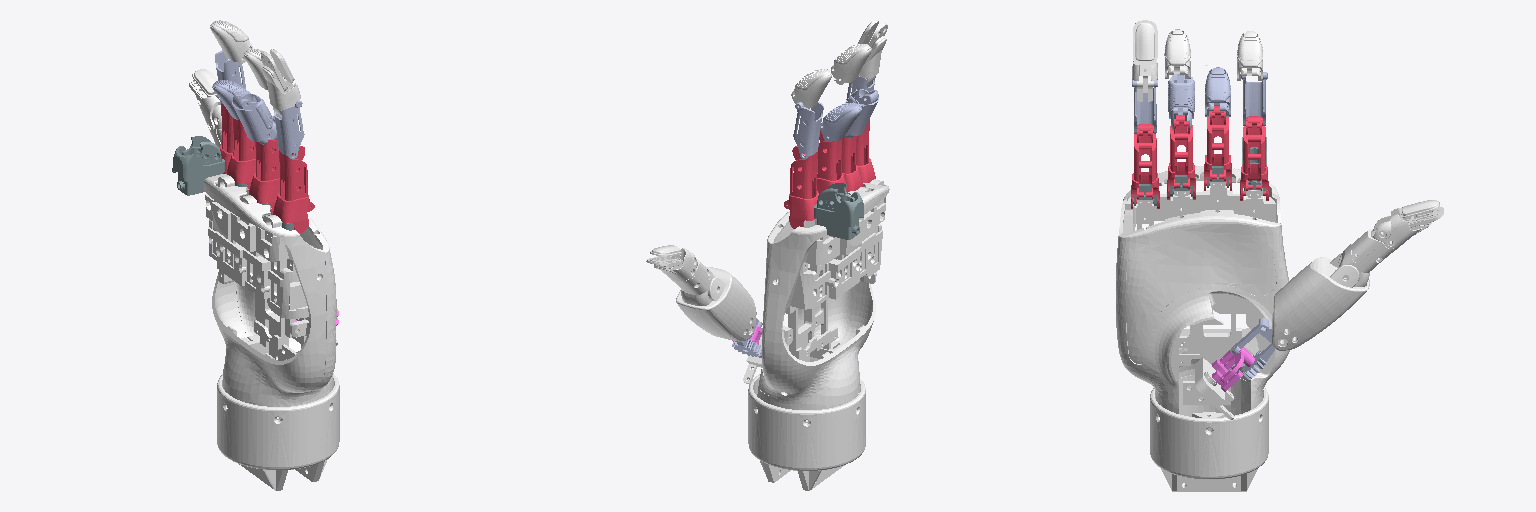
--- Facts derived from the render (not from the file) ---
3 views of the same robot in one strip: view 1: azimuth 30°, elevation 25°; view 2: azimuth 150°, elevation 25°; view 3: azimuth 270°, elevation 25° (orthographic).
Robot: linker_hand_l20_6_right — 27 links, 26 joints (21 revolute, 5 fixed); root link base_link; default pose: all joints at 0.
Visible links, largest first — view 1: base_link, little_link1, index_link0, ring_link1, little_link3, ring_link2, middle_link1, thumb_link4, little_link2, index_link3, index_link2, middle_link2 (+1 smaller); view 2: base_link, thumb_link2, index_link0, index_link1, thumb_link4, index_link2, middle_link1, ring_link3, middle_link2, little_link3, index_link3, thumb_link3 (+3 smaller); view 3: base_link, thumb_link2, thumb_link4, little_link3, index_link1, little_link1, ring_link1, middle_link1, thumb_link3, ring_link2, ring_link3, index_link3 (+5 smaller).
Boxes of the visible links, left/top/right/bottom form: base_link: left=204, top=174, right=339, bottom=490; little_link1: left=273, top=146, right=314, bottom=232; index_link0: left=172, top=136, right=224, bottom=195; ring_link1: left=249, top=135, right=279, bottom=212; little_link3: left=261, top=49, right=300, bottom=118; ring_link2: left=232, top=94, right=276, bottom=144; middle_link1: left=227, top=118, right=255, bottom=190; thumb_link4: left=189, top=69, right=221, bottom=132; little_link2: left=273, top=100, right=304, bottom=158; index_link3: left=210, top=20, right=252, bottom=63; index_link2: left=215, top=50, right=245, bottom=104; middle_link2: left=212, top=80, right=250, bottom=119; base_link: left=743, top=179, right=889, bottom=490; thumb_link2: left=676, top=267, right=755, bottom=341; index_link0: left=814, top=183, right=863, bottom=239; index_link1: left=784, top=146, right=818, bottom=228; thumb_link4: left=646, top=245, right=697, bottom=280; index_link2: left=793, top=102, right=823, bottom=158; middle_link1: left=817, top=131, right=847, bottom=193; ring_link3: left=831, top=44, right=871, bottom=84; middle_link2: left=820, top=103, right=861, bottom=141; little_link3: left=852, top=20, right=887, bottom=86; index_link3: left=791, top=69, right=831, bottom=108; thumb_link3: left=670, top=259, right=714, bottom=305; base_link: left=1116, top=166, right=1289, bottom=491; thumb_link2: left=1272, top=253, right=1369, bottom=350; thumb_link4: left=1373, top=200, right=1443, bottom=248; little_link3: left=1132, top=20, right=1157, bottom=101; index_link1: left=1240, top=116, right=1268, bottom=200; little_link1: left=1131, top=124, right=1159, bottom=208; ring_link1: left=1167, top=115, right=1195, bottom=199; middle_link1: left=1204, top=106, right=1231, bottom=190; thumb_link3: left=1338, top=229, right=1397, bottom=286; ring_link2: left=1168, top=74, right=1194, bottom=131; ring_link3: left=1164, top=29, right=1190, bottom=78; index_link3: left=1237, top=31, right=1262, bottom=80.
Bounding box of the posed robot: 0.0961 × 0.195 × 0.2887 m (x, y, z).
22 mesh visuals loaded from 22 distinct referenced files (22 binary STL).

robot.urdf — linker_hand_l20_6_right:
<?xml version="1.0" encoding="utf-8"?>
<robot
  name="linker_hand_l20_6_right">
  <link name="base_link">
    <inertial>
      <origin
        xyz="-0.00497665848015421 -0.00239359858758318 0.083846552988329"
        rpy="0 0 0" />
      <mass
        value="0.152938259096654" />
      <inertia
        ixx="0.00028478343778912"
        ixy="6.06872955357818E-07"
        ixz="2.48655772230021E-05"
        iyy="0.000221451699440379"
        iyz="3.44778042860607E-07"
        izz="0.000136444210200083" />
    </inertial>
    <visual>
      <origin
        xyz="0 0 0"
        rpy="0 0 0" />
      <geometry>
        <mesh
          filename="meshes/linker_hand_l20_6_right/base_link.STL" />
      </geometry>
      <material
        name="">
        <color
          rgba="1 1 1 1" />
      </material>
    </visual>
    <collision>
      <origin
        xyz="0 0 0"
        rpy="0 0 0" />
      <geometry>
        <mesh
          filename="meshes/linker_hand_l20_6_right/base_link.STL" />
      </geometry>
    </collision>
  </link>
  <link name="thumb_link0">
    <inertial>
      <origin
        xyz="0.00171130517852104 0.00308064154313176 0.00586120979241961"
        rpy="0 0 0" />
      <mass
        value="0.00189122305087942" />
      <inertia
        ixx="5.07422291451096E-08"
        ixy="1.48672786797004E-09"
        ixz="-1.19109960812994E-09"
        iyy="2.03941511025912E-07"
        iyz="-4.14644150186611E-09"
        izz="1.83339702481041E-07" />
    </inertial>
    <visual>
      <origin
        xyz="0 0 0"
        rpy="0 0 0" />
      <geometry>
        <mesh
          filename="meshes/linker_hand_l20_6_right/thumb_link0.STL" />
      </geometry>
      <material
        name="">
        <color
          rgba="1 0.529411764705882 0.945098039215686 1" />
      </material>
    </visual>
    <collision>
      <origin
        xyz="0 0 0"
        rpy="0 0 0" />
      <geometry>
        <mesh
          filename="meshes/linker_hand_l20_6_right/thumb_link0.STL" />
      </geometry>
    </collision>
  </link>
  <joint
    name="thumb_joint0"
    type="revolute">
    <origin
      xyz="0.02587 0.0067333 0.085186"
      rpy="-0.7854 0 0" />
    <parent
      link="base_link" />
    <child
      link="thumb_link0" />
    <axis
      xyz="0 0 1" />
    <limit
      lower="-1.57"
      upper="0"
      effort="1"
      velocity="1" />
  </joint>
  <link
    name="thumb_link1">
    <inertial>
      <origin
        xyz="-0.000277478869029235 -0.00750942833858575 0.0089304983825501"
        rpy="0 0 0" />
      <mass
        value="0.00206305891915154" />
      <inertia
        ixx="3.05385146228895E-07"
        ixy="-5.00563486191384E-09"
        ixz="7.19583052938621E-09"
        iyy="2.40742124143551E-07"
        iyz="5.95561056697094E-08"
        izz="1.06741398376265E-07" />
    </inertial>
    <visual>
      <origin
        xyz="0 0 0"
        rpy="0 0 0" />
      <geometry>
        <mesh
          filename="meshes/linker_hand_l20_6_right/thumb_link1.STL" />
      </geometry>
      <material
        name="">
        <color
          rgba="0.792156862745098 0.819607843137255 0.933333333333333 1" />
      </material>
    </visual>
    <collision>
      <origin
        xyz="0 0 0"
        rpy="0 0 0" />
      <geometry>
        <mesh
          filename="meshes/linker_hand_l20_6_right/thumb_link1.STL" />
      </geometry>
    </collision>
  </link>
  <joint
    name="thumb_joint1"
    type="revolute">
    <origin
      xyz="6.5908E-05 0.0147 0.016142"
      rpy="0 0 0" />
    <parent
      link="thumb_link0" />
    <child
      link="thumb_link1" />
    <axis
      xyz="0 -1 0" />
    <limit
      lower="-1.57"
      upper="0"
      effort="1"
      velocity="1" />
  </joint>
  <link
    name="thumb_link2">
    <inertial>
      <origin
        xyz="-0.0108507552512352 -0.00222078379608463 0.0272584155025345"
        rpy="0 0 0" />
      <mass
        value="0.0220131209035036" />
      <inertia
        ixx="8.80027883883616E-06"
        ixy="1.26376726607478E-08"
        ixz="6.85223481730703E-09"
        iyy="7.13469620246115E-06"
        iyz="-1.16002308114769E-07"
        izz="2.37412073971261E-06" />
    </inertial>
    <visual>
      <origin
        xyz="0 0 0"
        rpy="0 0 0" />
      <geometry>
        <mesh
          filename="meshes/linker_hand_l20_6_right/thumb_link2.STL" />
      </geometry>
      <material
        name="">
        <color
          rgba="1 1 1 1" />
      </material>
    </visual>
    <collision>
      <origin
        xyz="0 0 0"
        rpy="0 0 0" />
      <geometry>
        <mesh
          filename="meshes/linker_hand_l20_6_right/thumb_link2.STL" />
      </geometry>
    </collision>
  </link>+
  <joint
    name="thumb_joint2"
    type="revolute">
    <origin
      xyz="0.011082 -0.005298 0.026398"
      rpy="-0.017453 0 0" />
    <parent
      link="thumb_link1" />
    <child
      link="thumb_link2" />
    <axis
      xyz="1 0 0" />
    <limit
      lower="0"
      upper="0.84"
      effort="1"
      velocity="1" />
  </joint>
  <link
    name="thumb_link3">
    <inertial>
      <origin
        xyz="-0.00974959688321198 0.00202228519722449 0.0122258007515927"
        rpy="0 0 0" />
      <mass
        value="0.00555228490379291" />
      <inertia
        ixx="6.61595122846642E-07"
        ixy="1.05595315534577E-09"
        ixz="-3.18287669820352E-09"
        iyy="4.69880503586704E-07"
        iyz="6.54476571195352E-08"
        izz="2.55667905062469E-07" />
    </inertial>
    <visual>
      <origin
        xyz="0 0 0"
        rpy="0 0 0" />
      <geometry>
        <mesh
          filename="meshes/linker_hand_l20_6_right/thumb_link3.STL" />
      </geometry>
      <material
        name="">
        <color
          rgba="1 1 1 1" />
      </material>
    </visual>
    <collision>
      <origin
        xyz="0 0 0"
        rpy="0 0 0" />
      <geometry>
        <mesh
          filename="meshes/linker_hand_l20_6_right/thumb_link3.STL" />
      </geometry>
    </collision>
  </link>
  <joint
    name="thumb_joint3"
    type="revolute">
    <origin
      xyz="-0.0011 -0.004056 0.056083"
      rpy="0.022086 0 0" />
    <parent
      link="thumb_link2" />
    <child
      link="thumb_link3" />
    <axis
      xyz="-1 0 0" />
    <limit
      lower="-1.3"
      upper="0"
      effort="1"
      velocity="1" />
  </joint>
  <link
    name="thumb_link4">
    <inertial>
      <origin
        xyz="-0.00797578866717898 0.00152639668005328 0.0106120855389221"
        rpy="0 0 0" />
      <mass
        value="0.0055604971359363" />
      <inertia
        ixx="3.3774130772916E-07"
        ixy="3.61066706901095E-10"
        ixz="7.97109634276947E-10"
        iyy="3.22422909267053E-07"
        iyz="-9.35015665594502E-08"
        izz="2.64467672788791E-07" />
    </inertial>
    <visual>
      <origin
        xyz="0 0 0"
        rpy="0 0 0" />
      <geometry>
        <mesh
          filename="meshes/linker_hand_l20_6_right/thumb_link4.STL" />
      </geometry>
      <material
        name="">
        <color
          rgba="1 1 1 1" />
      </material>
    </visual>
    <collision>
      <origin
        xyz="0 0 0"
        rpy="0 0 0" />
      <geometry>
        <mesh
          filename="meshes/linker_hand_l20_6_right/thumb_link4.STL" />
      </geometry>
    </collision>
  </link>21
  <joint
    name="thumb_joint4"
    type="revolute">
    <origin
      xyz="-0.0021 0.0038291 0.03435"
      rpy="0.07351 0 0" />
    <parent
      link="thumb_link3" />
    <child
      link="thumb_link4" />
    <axis
      xyz="-1 0 0" />
    <limit
      lower="-1.36"
      upper="0"
      effort="1"
      velocity="0.5" />
    <mimic joint="thumb_joint3" multiplier="1.06399" offset="-0.04545"/>
  </joint>
  <link name="thumb_tip">
    <inertial>
      <mass value="0.001"/>
      <inertia ixx="0.0" ixy="0.0" ixz="0.0" iyy="0.0" iyz="0.0" izz="0.0"/>
    </inertial>
  </link>
  <joint name="thumtip" type="fixed">
    <parent link="thumb_link4"/>
    <child link="thumb_tip"/>
    <origin rpy="0 0 0" xyz="0 0 0.026"/>
  </joint>
  <link
    name="index_link0">
    <inertial>
      <origin
        xyz="0.00499201301761733 5.8453954384155E-07 0.00222436287435923"
        rpy="0 0 0" />
      <mass
        value="0.000811726286239375" />
      <inertia
        ixx="3.31810810659534E-08"
        ixy="-4.73130497978781E-15"
        ixz="-4.26318024097879E-09"
        iyy="2.13817841267529E-08"
        iyz="8.79642448001007E-15"
        izz="3.60158935322358E-08" />
    </inertial>
    <visual>
      <origin
        xyz="0 0 0"
        rpy="0 0 0" />
      <geometry>
        <mesh
          filename="meshes/linker_hand_l20_6_right/index_link0.STL" />
      </geometry>
      <material
        name="">
        <color
          rgba="0.592156862745098 0.666666666666667 0.682352941176471 1" />
      </material>
    </visual>
    <collision>
      <origin
        xyz="0 0 0"
        rpy="0 0 0" />
      <geometry>
        <mesh
          filename="meshes/linker_hand_l20_6_right/index_link0.STL" />
      </geometry>
    </collision>
  </link>
  <joint
    name="index_joint0"
    type="revolute">
    <origin
      xyz="-0.023065 0.026697 0.18271"
      rpy="0 0 0" />
    <parent
      link="base_link" />
    <child
      link="index_link0" />
    <axis
      xyz="1 0 0" />
    <limit
      lower="-0.26"
      upper="0.26"
      effort="1"
      velocity="1" />
  </joint>
  <link
    name="index_link1">
    <inertial>
      <origin
        xyz="-0.0012662 0.0047802 0.021586"
        rpy="0 0 0" />
      <mass
        value="0.0029859" />
      <inertia
        ixx="6.1441E-07"
        ixy="-6.7208E-12"
        ixz="2.6125E-09"
        iyy="6.6451E-07"
        iyz="-1.5783E-10"
        izz="7.4794E-08" />
    </inertial>
    <visual>
      <origin
        xyz="0 0 0"
        rpy="0 0 0" />
      <geometry>
        <mesh
          filename="meshes/linker_hand_l20_6_right/index_link1.STL" />
      </geometry>
      <material
        name="">
        <color
          rgba="1 0.36471 0.47843 1" />
      </material>
    </visual>
    <collision>
      <origin
        xyz="0 0 0"
        rpy="0 0 0" />
      <geometry>
        <mesh
          filename="meshes/linker_hand_l20_6_right/index_link1.STL" />
      </geometry>
    </collision>
  </link>
  <joint
    name="index_joint1"
    type="revolute">
    <origin
      xyz="0.01037 -0.0047959 0"
      rpy="0 -0.016705 0" />
    <parent
      link="index_link0" />
    <child
      link="index_link1" />
    <axis
      xyz="0 -1 0" />
    <limit
      lower="-1.57"
      upper="0"
      effort="1"
      velocity="1" />
  </joint>
  <link
    name="index_link2">
    <inertial>
      <origin
        xyz="0.0022678782934194 0.00550938443619188 0.0157509409922609"
        rpy="0 0 0" />
      <mass
        value="0.00110397342872363" />
      <inertia
        ixx="1.25567261013688E-07"
        ixy="-5.66747555864477E-13"
        ixz="-1.74648045897156E-08"
        iyy="1.10386995872639E-07"
        iyz="-1.8998411342969E-12"
        izz="4.80247744617547E-08" />
    </inertial>
    <visual>
      <origin
        xyz="0 0 0"
        rpy="0 0 0" />
      <geometry>
        <mesh
          filename="meshes/linker_hand_l20_6_right/index_link2.STL" />
      </geometry>
      <material
        name="">
        <color
          rgba="0.792156862745098 0.819607843137255 0.933333333333333 1" />
      </material>
    </visual>
    <collision>
      <origin
        xyz="0 0 0"
        rpy="0 0 0" />
      <geometry>
        <mesh
          filename="meshes/linker_hand_l20_6_right/index_link2.STL" />
      </geometry>
    </collision>
  </link>
  <joint
    name="index_joint2"
    type="revolute">
    <origin
      xyz="-0.0034454 -0.00071234 0.044883"
      rpy="0 -0.1664 0" />
    <parent
      link="index_link1" />
    <child
      link="index_link2" />
    <axis
      xyz="0 -1 0" />
    <limit
      lower="-0.75"
      upper="0"
      effort="1"
      velocity="1" />
  </joint>
  <link
    name="index_link3">
    <inertial>
      <origin
        xyz="-0.0070199 0.0077572 0.010283"
        rpy="0 0 0" />
      <mass
        value="0.0043646" />
      <inertia
        ixx="2.9569E-07"
        ixy="1.4231E-11"
        ixz="7.1242E-08"
        iyy="2.9572E-07"
        iyz="-9.0359E-11"
        izz="1.3393E-07" />
    </inertial>
    <visual>
      <origin
        xyz="0 0 0"
        rpy="0 0 0" />
      <geometry>
        <mesh
          filename="meshes/linker_hand_l20_6_right/index_link3.STL" />
      </geometry>
      <material
        name="">
        <color
          rgba="1 1 1 1" />
      </material>
    </visual>
    <collision>
      <origin
        xyz="0 0 0"
        rpy="0 0 0" />
      <geometry>
        <mesh
          filename="meshes/linker_hand_l20_6_right/index_link3.STL" />
      </geometry>
    </collision>
  </link>
  <joint
    name="index_joint3"
    type="revolute">
    <origin
      xyz="0.0089932 -0.0022532 0.030525"
      rpy="0 0.043633 0" />
    <parent
      link="index_link2" />
    <child
      link="index_link3" />
    <axis
      xyz="0 -1 0" />
    <limit
      lower="-1.57"
      upper="0"
      effort="1"
      velocity="1" />
    <mimic joint="index_joint2" multiplier="1.06399" offset="-0.04545"/>
  </joint>
  <link name="index_tip">
    <inertial>
      <mass value="0.001"/>
      <inertia ixx="0.0" ixy="0.0" ixz="0.0" iyy="0.0" iyz="0.0" izz="0.0"/>
    </inertial>
  </link>
  <joint name="indetip" type="fixed">
    <parent link="index_link3"/>
    <child link="index_tip"/>
    <origin rpy="0 0 0" xyz="-0.016 0 0.026"/>
  </joint>
  <link
    name="middle_link0">
    <inertial>
      <origin
        xyz="0.00499201301761733 5.84539543848489E-07 0.0022243628743592"
        rpy="0 0 0" />
      <mass
        value="0.000811726286239377" />
      <inertia
        ixx="3.31810810659534E-08"
        ixy="-4.73130499613394E-15"
        ixz="-4.26318024097879E-09"
        iyy="2.1381784126753E-08"
        iyz="8.79642447366863E-15"
        izz="3.60158935322358E-08" />
    </inertial>
    <visual>
      <origin
        xyz="0 0 0"
        rpy="0 0 0" />
      <geometry>
        <mesh
          filename="meshes/linker_hand_l20_6_right/middle_link0.STL" />
      </geometry>
      <material
        name="">
        <color
          rgba="0.592156862745098 0.666666666666667 0.682352941176471 1" />
      </material>
    </visual>
    <collision>
      <origin
        xyz="0 0 0"
        rpy="0 0 0" />
      <geometry>
        <mesh
          filename="meshes/linker_hand_l20_6_right/middle_link0.STL" />
      </geometry>
    </collision>
  </link>
  <joint
    name="middle_joint0"
    type="revolute">
    <origin
      xyz="-0.027799 0.0050972 0.1872"
      rpy="0 0 0" />
    <parent
      link="base_link" />
    <child
      link="middle_link0" />
    <axis
      xyz="1 0 0" />
    <limit
      lower="-0.26"
      upper="0.26"
      effort="1"
      velocity="1" />
  </joint>
  <link
    name="middle_link1">
    <inertial>
      <origin
        xyz="-0.00126616757442883 0.00478020260131797 0.0215857761806502"
        rpy="0 0 0" />
      <mass
        value="0.00298593553533332" />
      <inertia
        ixx="6.14413061991008E-07"
        ixy="-6.72078487993598E-12"
        ixz="2.61250859819972E-09"
        iyy="6.64506610035218E-07"
        iyz="-1.5782653947063E-10"
        izz="7.47935343487365E-08" />
    </inertial>
    <visual>
      <origin
        xyz="0 0 0"
        rpy="0 0 0" />
      <geometry>
        <mesh
          filename="meshes/linker_hand_l20_6_right/middle_link1.STL" />
      </geometry>
      <material
        name="">
        <color
          rgba="1 0.364705882352941 0.47843137254902 1" />
      </material>
    </visual>
    <collision>
      <origin
        xyz="0 0 0"
        rpy="0 0 0" />
      <geometry>
        <mesh
          filename="meshes/linker_hand_l20_6_right/middle_link1.STL" />
      </geometry>
    </collision>
  </link>
  <joint
    name="middle_joint1"
    type="revolute">
    <origin
      xyz="0.01037 -0.0047959 0"
      rpy="0 -0.016705 0" />
    <parent
      link="middle_link0" />
    <child
      link="middle_link1" />
    <axis
      xyz="0 -1 0" />
    <limit
      lower="-1.57"
      upper="0"
      effort="1"
      velocity="1" />
  </joint>
  <link
    name="middle_link2">
    <inertial>
      <origin
        xyz="0.00206147810486489 0.0055093844355147 0.0157792814180968"
        rpy="0 0 0" />
      <mass
        value="0.00110397342856969" />
      <inertia
        ixx="1.26011217966818E-07"
        ixy="-5.41827944403056E-13"
        ixz="-1.64437457339027E-08"
        iyy="1.10386995852566E-07"
        iyz="-1.90708945160502E-12"
        izz="4.75808174813495E-08" />
    </inertial>
    <visual>
      <origin
        xyz="0 0 0"
        rpy="0 0 0" />
      <geometry>
        <mesh
          filename="meshes/linker_hand_l20_6_right/middle_link2.STL" />
      </geometry>
      <material
        name="">
        <color
          rgba="0.792156862745098 0.819607843137255 0.933333333333333 1" />
      </material>
    </visual>
    <collision>
      <origin
        xyz="0 0 0"
        rpy="0 0 0" />
      <geometry>
        <mesh
          filename="meshes/linker_hand_l20_6_right/middle_link2.STL" />
      </geometry>
    </collision>
  </link>
  <joint
    name="middle_joint2"
    type="revolute">
    <origin
      xyz="-0.0034454 -0.00071234 0.044883"
      rpy="0 -0.15331 0" />
    <parent
      link="middle_link1" />
    <child
      link="middle_link2" />
    <axis
      xyz="0 -1 0" />
    <limit
      lower="-0.75"
      upper="0"
      effort="1"
      velocity="1" />
  </joint>
  <link
    name="middle_link3">
    <inertial>
      <origin
        xyz="-0.00701990846170339 0.00775722692543853 0.0102834906292369"
        rpy="0 0 0" />
      <mass
        value="0.00436464025798777" />
      <inertia
        ixx="2.95690415926815E-07"
        ixy="1.42314403707937E-11"
        ixz="7.12424042898867E-08"
        iyy="2.95717870924723E-07"
        iyz="-9.03585662309647E-11"
        izz="1.33934082734713E-07" />
    </inertial>
    <visual>
      <origin
        xyz="0 0 0"
        rpy="0 0 0" />
      <geometry>
        <mesh
          filename="meshes/linker_hand_l20_6_right/middle_link3.STL" />
      </geometry>
      <material
        name="">
        <color
          rgba="1 1 1 1" />
      </material>
    </visual>
    <collision>
      <origin
        xyz="0 0 0"
        rpy="0 0 0" />
      <geometry>
        <mesh
          filename="meshes/linker_hand_l20_6_right/middle_link3.STL" />
      </geometry>
    </collision>
  </link>
  <joint
    name="middle_joint3"
    type="revolute">
    <origin
      xyz="0.0085928 -0.0022532 0.03064"
      rpy="0 0.030541 0" />
    <parent
      link="middle_link2" />
    <child
      link="middle_link3" />
    <axis
      xyz="0 -1 0" />
    <limit
      lower="-1.57"
      upper="0"
      effort="1"
      velocity="1" />
    <mimic joint="middle_joint2" multiplier="1.06399" offset="-0.04545"/>
  </joint>
  <link name="middle_tip">
    <inertial>
      <mass value="0.001"/>
      <inertia ixx="0.0" ixy="0.0" ixz="0.0" iyy="0.0" iyz="0.0" izz="0.0"/>
    </inertial>
  </link>
  <joint name="middtip" type="fixed">
    <parent link="middle_link3"/>
    <child link="middle_tip"/>
    <origin rpy="0 0 0" xyz="-0.016 0 0.026"/>
  </joint>
  <link
    name="ring_link0">
    <inertial>
      <origin
        xyz="0.00499201301761733 5.8453954384155E-07 0.00222436287435923"
        rpy="0 0 0" />
      <mass
        value="0.000811726286239376" />
      <inertia
        ixx="3.31810810659534E-08"
        ixy="-4.73130496290983E-15"
        ixz="-4.26318024097879E-09"
        iyy="2.13817841267529E-08"
        iyz="8.7964244475489E-15"
        izz="3.60158935322358E-08" />
    </inertial>
    <visual>
      <origin
        xyz="0 0 0"
        rpy="0 0 0" />
      <geometry>
        <mesh
          filename="meshes/linker_hand_l20_6_right/ring_link0.STL" />
      </geometry>
      <material
        name="">
        <color
          rgba="0.592156862745098 0.666666666666667 0.682352941176471 1" />
      </material>
    </visual>
    <collision>
      <origin
        xyz="0 0 0"
        rpy="0 0 0" />
      <geometry>
        <mesh
          filename="meshes/linker_hand_l20_6_right/ring_link0.STL" />
      </geometry>
    </collision>
  </link>
  <joint
    name="ring_joint0"
    type="revolute">
    <origin
      xyz="-0.025494 -0.016503 0.18271"
      rpy="0 0 0" />
    <parent
      link="base_link" />
    <child
      link="ring_link0" />
    <axis
      xyz="1 0 0" />
    <limit
      lower="-0.26"
      upper="0.26"
      effort="1"
      velocity="1" />
  </joint>
  <link
    name="ring_link1">
    <inertial>
      <origin
        xyz="-0.00162655515218408 0.00478020259309836 0.0215616147832942"
        rpy="0 0 0" />
      <mass
        value="0.00298593553533345" />
      <inertia
        ixx="6.14175233798026E-07"
        ixy="-4.08355103251197E-12"
        ixz="1.16234835717447E-08"
        iyy="6.64506610583797E-07"
        iyz="-1.57916557955352E-10"
        izz="7.50313630900641E-08" />
    </inertial>
    <visual>
      <origin
        xyz="0 0 0"
        rpy="0 0 0" />
      <geometry>
        <mesh
          filename="meshes/linker_hand_l20_6_right/ring_link1.STL" />
      </geometry>
      <material
        name="">
        <color
          rgba="1 0.364705882352941 0.47843137254902 1" />
      </material>
    </visual>
    <collision>
      <origin
        xyz="0 0 0"
        rpy="0 0 0" />
      <geometry>
        <mesh
          filename="meshes/linker_hand_l20_6_right/ring_link1.STL" />
      </geometry>
    </collision>
  </link>
  <joint
    name="ring_joint1"
    type="revolute">
    <origin
      xyz="0.01037 -0.0047959 0"
      rpy="0 0 0" />
    <parent
      link="ring_link0" />
    <child
      link="ring_link1" />
    <axis
      xyz="0 -1 0" />
    <limit
      lower="-1.57"
      upper="0"
      effort="1"
      velocity="1" />
  </joint>
  <link
    name="ring_link2">
    <inertial>
      <origin
        xyz="0.00206147810411875 0.00550938443821904 0.0157792814243852"
        rpy="0 0 0" />
      <mass
        value="0.00110397342920435" />
      <inertia
        ixx="1.26011218063283E-07"
        ixy="-5.4182363605894E-13"
        ixz="-1.64437457238363E-08"
        iyy="1.10386995935321E-07"
        iyz="-1.90712438627863E-12"
        izz="4.75808174975987E-08" />
    </inertial>
    <visual>
      <origin
        xyz="0 0 0"
        rpy="0 0 0" />
      <geometry>
        <mesh
          filename="meshes/linker_hand_l20_6_right/ring_link2.STL" />
      </geometry>
      <material
        name="">
        <color
          rgba="0.792156862745098 0.819607843137255 0.933333333333333 1" />
      </material>
    </visual>
    <collision>
      <origin
        xyz="0 0 0"
        rpy="0 0 0" />
      <geometry>
        <mesh
          filename="meshes/linker_hand_l20_6_right/ring_link2.STL" />
      </geometry>
    </collision>
  </link>
  <joint
    name="ring_joint2"
    type="revolute">
    <origin
      xyz="-0.0041946 -0.00071234 0.044819"
      rpy="0 -0.17001 0" />
    <parent
      link="ring_link1" />
    <child
      link="ring_link2" />
    <axis
      xyz="0 -1 0" />
    <limit
      lower="-0.75"
      upper="0"
      effort="1"
      velocity="1" />
  </joint>
  <link
    name="ring_link3">
    <inertial>
      <origin
        xyz="-0.00701990846170333 0.00775722692543853 0.0102834906292371"
        rpy="0 0 0" />
      <mass
        value="0.00436464025798771" />
      <inertia
        ixx="2.95690415925351E-07"
        ixy="1.42314403691933E-11"
        ixz="7.12424042898873E-08"
        iyy="2.95717870924722E-07"
        iyz="-9.03585662309584E-11"
        izz="1.33934082733249E-07" />
    </inertial>
    <visual>
      <origin
        xyz="0 0 0"
        rpy="0 0 0" />
      <geometry>
        <mesh
          filename="meshes/linker_hand_l20_6_right/ring_link3.STL" />
      </geometry>
      <material
        name="">
        <color
          rgba="1 1 1 1" />
      </material>
    </visual>
    <collision>
      <origin
        xyz="0 0 0"
        rpy="0 0 0" />
      <geometry>
        <mesh
          filename="meshes/linker_hand_l20_6_right/ring_link3.STL" />
      </geometry>
    </collision>
  </link>
  <joint
    name="ring_joint3"
    type="revolute">
    <origin
      xyz="0.0085928 -0.0022532 0.03064"
      rpy="0 0.030541 0" />
    <parent
      link="ring_link2" />
    <child
      link="ring_link3" />
    <axis
      xyz="0 -1 0" />
    <limit
      lower="-1.57"
      upper="0"
      effort="1"
      velocity="1" />
    <mimic joint="ring_joint2" multiplier="1.06399" offset="-0.04545"/>
  </joint>
   <link name="ring_tip">
    <inertial>
      <mass value="0.001"/>
      <inertia ixx="0.0" ixy="0.0" ixz="0.0" iyy="0.0" iyz="0.0" izz="0.0"/>
    </inertial>
  </link>
  <joint name="rintip" type="fixed">
    <parent link="ring_link3"/>
    <child link="ring_tip"/>
    <origin rpy="0 0 0" xyz="-0.016 0 0.026"/>
  </joint>
  <link
    name="little_link0">
    <inertial>
      <origin
        xyz="0.00499201301761731 5.84539543851958E-07 0.00222436287435926"
        rpy="0 0 0" />
      <mass
        value="0.000811726286239376" />
      <inertia
        ixx="3.31810810659534E-08"
        ixy="-4.73130500844276E-15"
        ixz="-4.26318024097879E-09"
        iyy="2.13817841267529E-08"
        iyz="8.79642447585534E-15"
        izz="3.60158935322357E-08" />
    </inertial>
    <visual>
      <origin
        xyz="0 0 0"
        rpy="0 0 0" />
      <geometry>
        <mesh
          filename="meshes/linker_hand_l20_6_right/little_link0.STL" />
      </geometry>
      <material
        name="">
        <color
          rgba="0.592156862745098 0.666666666666667 0.682352941176471 1" />
      </material>
    </visual>
    <collision>
      <origin
        xyz="0 0 0"
        rpy="0 0 0" />
      <geometry>
        <mesh
          filename="meshes/linker_hand_l20_6_right/little_link0.STL" />
      </geometry>
    </collision>
  </link>
  <joint
    name="little_joint0"
    type="revolute">
    <origin
      xyz="-0.02187 -0.038103 0.17821"
      rpy="0 0 0" />
    <parent
      link="base_link" />
    <child
      link="little_link0" />
    <axis
      xyz="1 0 0" />
    <limit
      lower="-0.26"
      upper="0.26"
      effort="1"
      velocity="1" />
  </joint>
  <link
    name="little_link1">
    <inertial>
      <origin
        xyz="-0.0016265551521829 0.00478020259309832 0.021561614783292"
        rpy="0 0 0" />
      <mass
        value="0.00298593553533314" />
      <inertia
        ixx="6.14175233790377E-07"
        ixy="-4.08355119305353E-12"
        ixz="1.16234832549261E-08"
        iyy="6.6450661539883E-07"
        iyz="-1.5791655794165E-10"
        izz="7.50313679127257E-08" />
    </inertial>
    <visual>
      <origin
        xyz="0 0 0"
        rpy="0 0 0" />
      <geometry>
        <mesh
          filename="meshes/linker_hand_l20_6_right/little_link1.STL" />
      </geometry>
      <material
        name="">
        <color
          rgba="1 0.364705882352941 0.47843137254902 1" />
      </material>
    </visual>
    <collision>
      <origin
        xyz="0 0 0"
        rpy="0 0 0" />
      <geometry>
        <mesh
          filename="meshes/linker_hand_l20_6_right/little_link1.STL" />
      </geometry>
    </collision>
  </link>
  <joint
    name="little_joint1"
    type="revolute">
    <origin
      xyz="0.01037 -0.0047959 0"
      rpy="0 0 0" />
    <parent
      link="little_link0" />
    <child
      link="little_link1" />
    <axis
      xyz="0 -1 0" />
    <limit
      lower="-1.57"
      upper="0"
      effort="1"
      velocity="1" />
  </joint>
  <link
    name="little_link2">
    <inertial>
      <origin
        xyz="0.00206147810468327 0.00550938443616768 0.0157792814196219"
        rpy="0 0 0" />
      <mass
        value="0.00110397342872363" />
      <inertia
        ixx="1.2601121799018E-07"
        ixy="-5.41826899960353E-13"
        ixz="-1.64437457314512E-08"
        iyy="1.10386995872637E-07"
        iyz="-1.90709788550591E-12"
        izz="4.75808174852604E-08" />
    </inertial>
    <visual>
      <origin
        xyz="0 0 0"
        rpy="0 0 0" />
      <geometry>
        <mesh
          filename="meshes/linker_hand_l20_6_right/little_link2.STL" />
      </geometry>
      <material
        name="">
        <color
          rgba="0.792156862745098 0.819607843137255 0.933333333333333 1" />
      </material>
    </visual>
    <collision>
      <origin
        xyz="0 0 0"
        rpy="0 0 0" />
      <geometry>
        <mesh
          filename="meshes/linker_hand_l20_6_right/little_link2.STL" />
      </geometry>
    </collision>
  </link>
  <joint
    name="little_joint2"
    type="revolute">
    <origin
      xyz="-0.0041946 -0.00071234 0.044819"
      rpy="0 -0.17001 0" />
    <parent
      link="little_link1" />
    <child
      link="little_link2" />
    <axis
      xyz="0 -1 0" />
    <limit
      lower="-0.75"
      upper="0"
      effort="1"
      velocity="1" />
  </joint>
  <link
    name="little_link3">
    <inertial>
      <origin
        xyz="-0.00701990846170338 0.00775722692543847 0.0102834906292369"
        rpy="0 0 0" />
      <mass
        value="0.00436464025798779" />
      <inertia
        ixx="2.95690415926545E-07"
        ixy="1.42314403688477E-11"
        ixz="7.12424042898866E-08"
        iyy="2.95717870924726E-07"
        iyz="-9.03585662282306E-11"
        izz="1.33934082734442E-07" />
    </inertial>
    <visual>
      <origin
        xyz="0 0 0"
        rpy="0 0 0" />
      <geometry>
        <mesh
          filename="meshes/linker_hand_l20_6_right/little_link3.STL" />
      </geometry>
      <material
        name="">
        <color
          rgba="1 1 1 1" />
      </material>
    </visual>
    <collision>
      <origin
        xyz="0 0 0"
        rpy="0 0 0" />
      <geometry>
        <mesh
          filename="meshes/linker_hand_l20_6_right/little_link3.STL" />
      </geometry>
    </collision>
  </link>
  <joint
    name="little_joint3"
    type="revolute">
    <origin
      xyz="0.0085928 -0.0022532 0.03064"
      rpy="0 0.030541 0" />
    <parent
      link="little_link2" />
    <child
      link="little_link3" />
    <axis
      xyz="0 -1 0" />
    <limit
      lower="-1.57"
      upper="0"
      effort="1"
      velocity="1" />
    <mimic joint="little_joint2" multiplier="1.06399" offset="-0.04545"/>
  </joint>
  <link name="little_tip">
    <inertial>
      <mass value="0.001"/>
      <inertia ixx="0.0" ixy="0.0" ixz="0.0" iyy="0.0" iyz="0.0" izz="0.0"/>
    </inertial>
  </link>
  <joint name="litttip" type="fixed">
    <parent link="little_link3"/>
    <child link="little_tip"/>
    <origin rpy="0 0 0" xyz="-0.016 0 0.026"/>
  </joint>
</robot>
